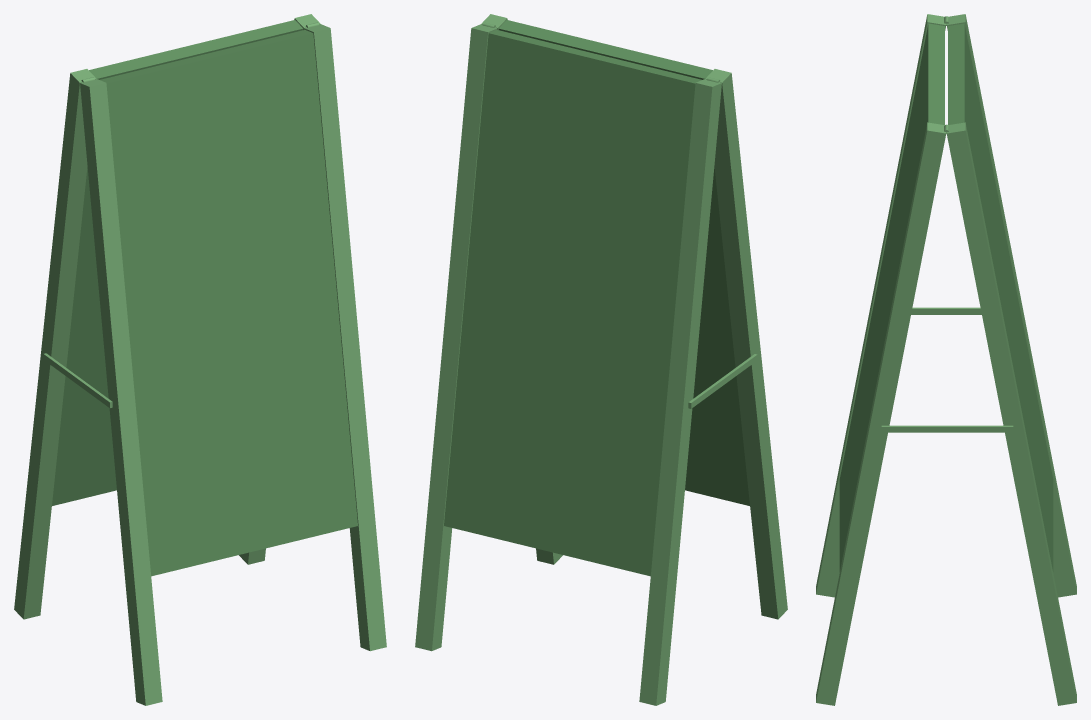
File: Floor Signs.glb
3 views of the same model, side by side, from view 1: azimuth 30°, elevation 25°; view 2: azimuth 150°, elevation 25°; view 3: azimuth 270°, elevation 25° (orthographic).
Parts seen in each view (by area): view 1: Plate (×2), Leg (×3), Connector; view 2: Plate (×2), Leg (×3), Connector; view 3: Leg (×4), Plate (×2), Connector (×2).
Boxes of the visible parts, box(x1,y1,x2,y2) form: Plate (×2): box(52, 20, 357, 576); Leg (×3): box(14, 24, 386, 705); Connector: box(43, 353, 112, 407); Plate (×2): box(444, 20, 749, 576); Leg (×3): box(415, 24, 787, 705); Connector: box(688, 354, 757, 408); Leg (×4): box(816, 14, 1076, 705); Plate (×2): box(839, 23, 1053, 571); Connector (×2): box(881, 307, 1013, 432).
Bounding box in the file's own units: 0.55 × 1.24 × 0.5086.
